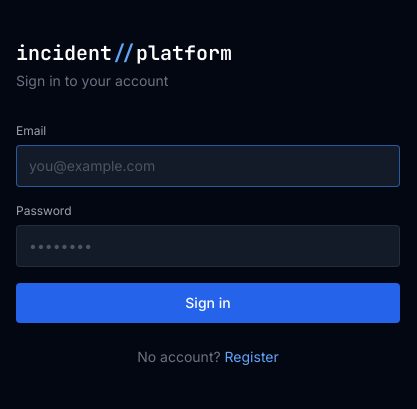
Test: a rejected login reaches the caller intact › LoginPage renders the server message instead of being reloaded away
Type "user@example.com" into the field with placeholder "you@example.com" at (208, 166), box 16,145 -> 400,187
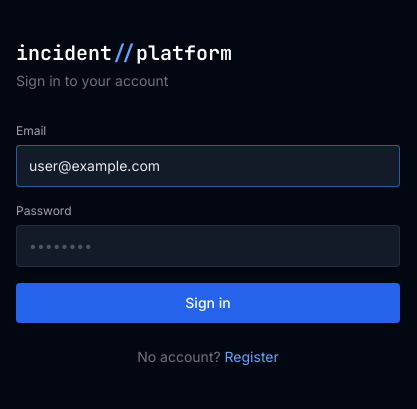
Type "wrong" into the password field with placeholder "••••••••" at (208, 246), box 16,225 -> 400,267
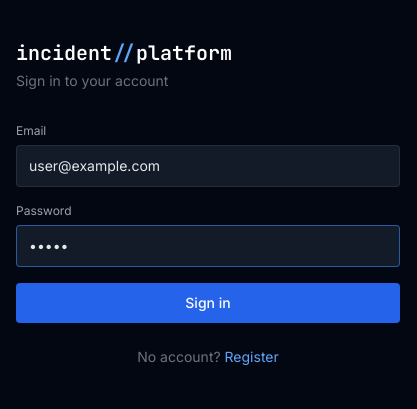
Click the button "Sign in" at (208, 303), box 16,283 -> 400,323
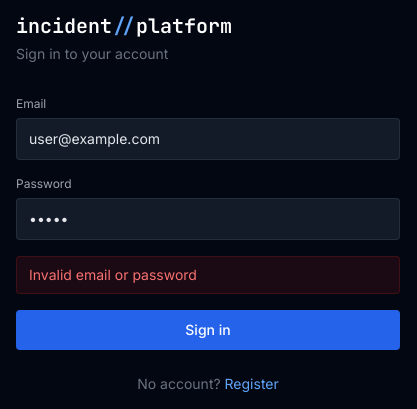
Now the text "Invalid email or password" is shown, box 16,256 -> 400,294
